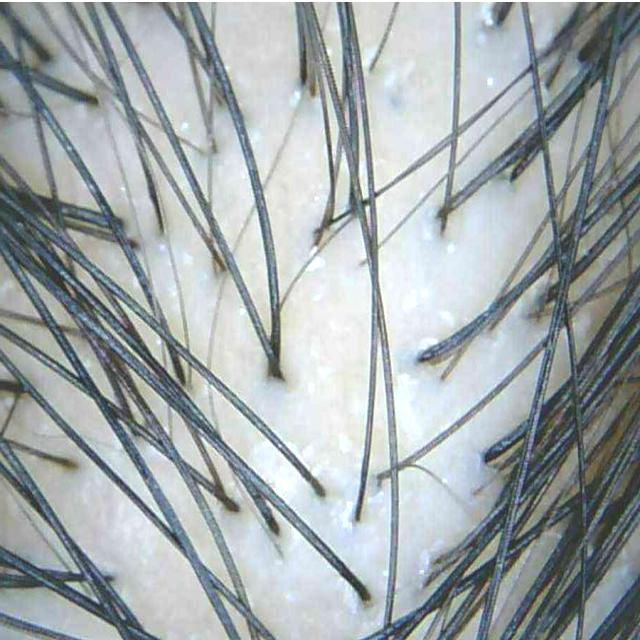d: (419, 549, 431, 585), (340, 501, 354, 531), (288, 89, 301, 109), (308, 256, 325, 271)
